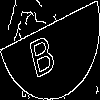B: (25, 25, 57, 79)
